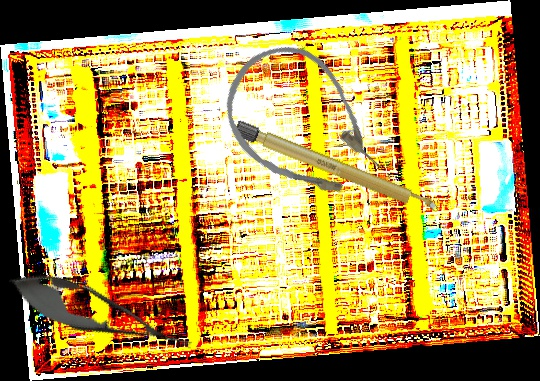Cannula: (201, 24, 405, 229)
Micro Scissor: (0, 259, 200, 369)
Scalpel Handle: (231, 119, 444, 218)
